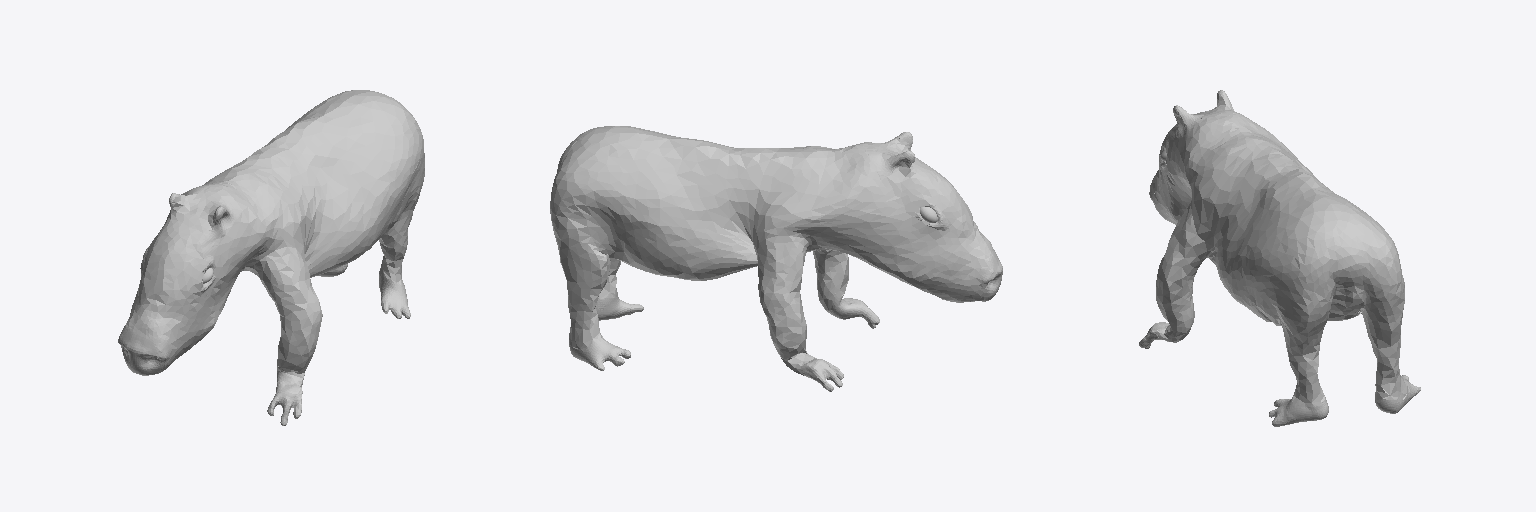
Rendered from kapiHolo.obj.
3 views of the same model, side by side, from view 1: azimuth 30°, elevation 25°; view 2: azimuth 150°, elevation 25°; view 3: azimuth 270°, elevation 25° (orthographic).
Parts seen in each view (by area): view 1: kapi.012; view 2: kapi.012; view 3: kapi.012.
Part boxes in pixels (x1,y1,x2,y2): kapi.012: (118, 90, 424, 425); kapi.012: (550, 126, 1002, 391); kapi.012: (1139, 90, 1420, 426).
Size of the model in its own units: 0.9631 by 0.5663 by 0.6484.